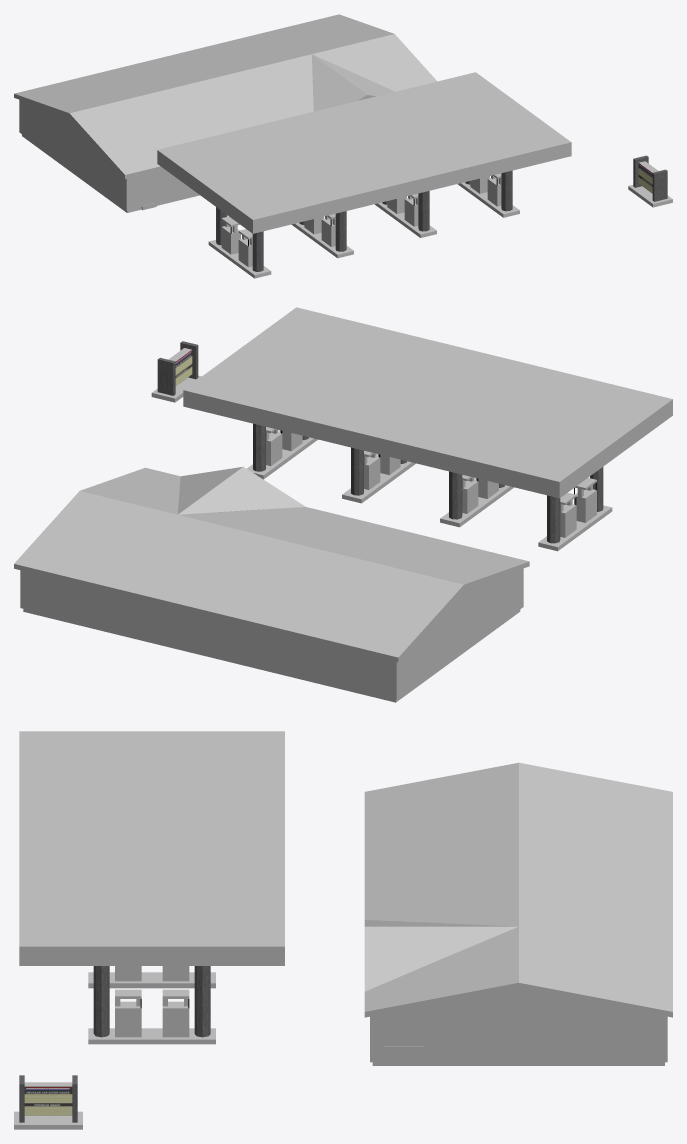
The model's file is separated_gas_station.fbx.
3 renders of one model, top to bottom at view 1: azimuth 30°, elevation 25°; view 2: azimuth 150°, elevation 25°; view 3: azimuth 270°, elevation 25°, orthographic. The views are drawn at different scales.
Visible parts, largest first — view 1: GasStation, ConvenienceRoof, Exterior; view 2: GasStation, ConvenienceRoof, Exterior; view 3: GasStation, ConvenienceRoof, Exterior, Windows.
Boxes of the visible parts, x1,y1,x2,y2 form: GasStation: (157, 72, 672, 278); ConvenienceRoof: (14, 14, 437, 178); Exterior: (19, 99, 199, 212); GasStation: (151, 307, 672, 551); ConvenienceRoof: (14, 466, 529, 662); Exterior: (20, 568, 523, 702); GasStation: (14, 731, 284, 1129); ConvenienceRoof: (364, 762, 672, 1017); Exterior: (370, 987, 667, 1065); Windows: (384, 1025, 424, 1046).
Size of the model in its own units: 4064 by 800 by 3968.
